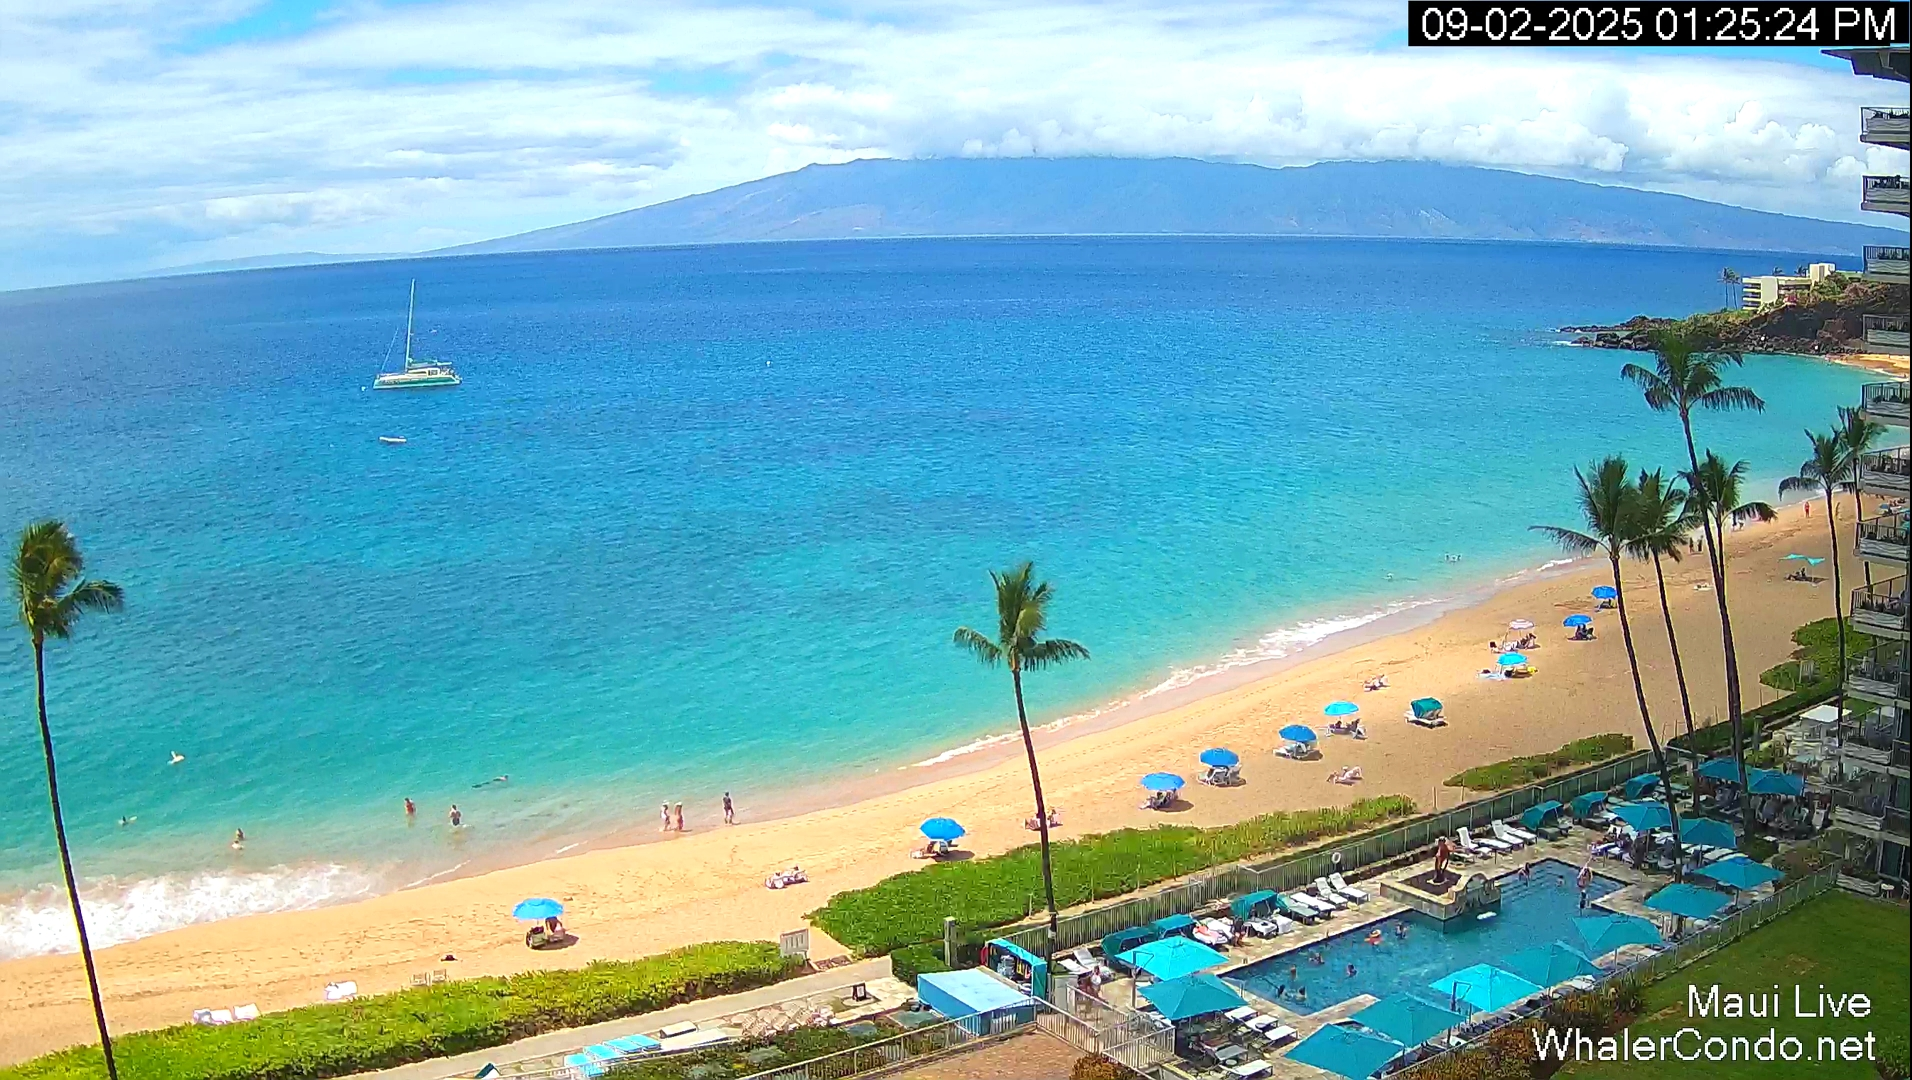boat: (368, 1014, 640, 1077), (372, 277, 463, 390), (378, 434, 407, 444)
person: (952, 561, 1054, 640), (1434, 837, 1450, 882), (545, 916, 566, 942), (722, 791, 735, 825), (1090, 966, 1102, 997), (673, 803, 685, 831), (660, 804, 672, 832), (448, 804, 462, 826), (233, 828, 245, 848), (168, 750, 185, 764), (404, 797, 416, 816), (1571, 625, 1584, 640), (236, 827, 246, 841), (1803, 501, 1810, 518), (493, 775, 508, 781), (1525, 633, 1537, 640), (121, 815, 127, 825)
